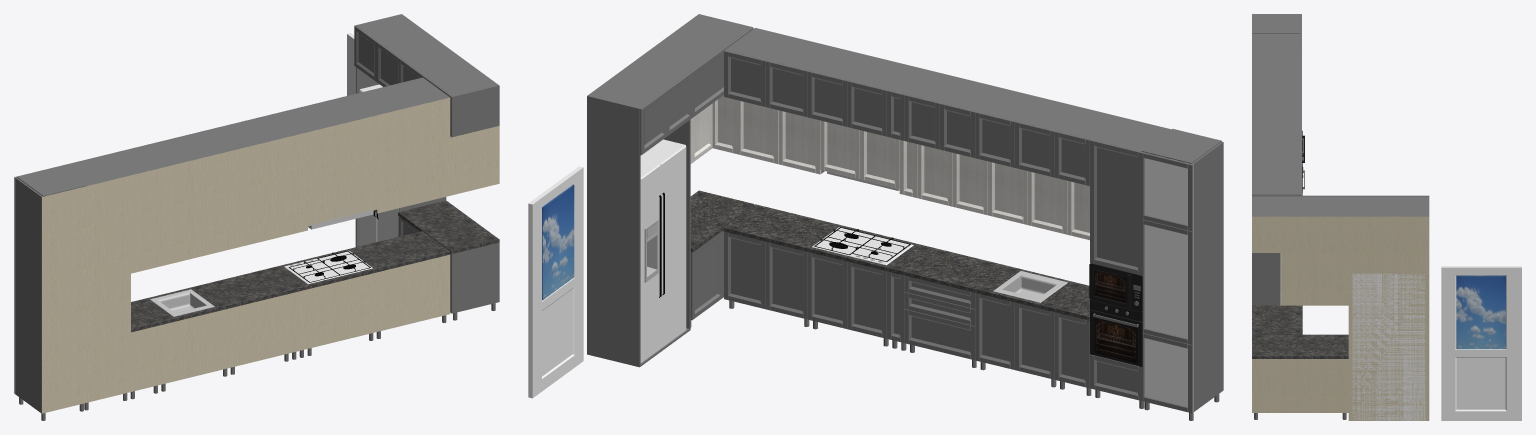
Rendered from kitchen.dae.
The picture shows the model from 3 angles, left to right: view 1: azimuth 30°, elevation 25°; view 2: azimuth 150°, elevation 25°; view 3: azimuth 270°, elevation 25°; orthographic projection. The views are drawn at different scales.
Visible parts, largest first — view 1: Module0, Module10, Module11, Module82, Module103, Module87, Module43, Module64, Module26, Module53, Module32, Module37 (+35 smaller); view 2: Module109, Module13, Module11, Module107, Module113, Module2, Module85, Module46, Module67, Module35, Module89, Module28 (+42 smaller); view 3: Module108, Module107, Module113, Module59, Module114, Module99, Module102, Module61, Module103, Module109, Module91, Module57 (+9 smaller).
Part boxes in pixels (left/top/right/bottom): Module0: left=85, top=175, right=130, bottom=402; Module10: left=41, top=186, right=87, bottom=413; Module11: left=15, top=166, right=86, bottom=413; Module82: left=377, top=254, right=450, bottom=331; Module103: left=400, top=46, right=499, bottom=136; Module87: left=377, top=138, right=450, bottom=213; Module43: left=308, top=272, right=377, bottom=348; Module64: left=162, top=308, right=230, bottom=384; Module26: left=162, top=191, right=230, bottom=265; Module53: left=308, top=155, right=377, bottom=226; Module32: left=231, top=293, right=292, bottom=367; Module37: left=231, top=176, right=292, bottom=249; Module109: left=587, top=59, right=690, bottom=367; Module13: left=1144, top=158, right=1193, bottom=412; Module11: left=1140, top=128, right=1223, bottom=412; Module107: left=640, top=139, right=686, bottom=362; Module113: left=528, top=166, right=583, bottom=398; Module2: left=1090, top=139, right=1143, bottom=400; Module85: left=724, top=231, right=807, bottom=319; Module46: left=807, top=252, right=886, bottom=338; Module67: left=975, top=293, right=1054, bottom=379; Module35: left=904, top=275, right=975, bottom=360; Module89: left=736, top=100, right=821, bottom=174; Module28: left=988, top=161, right=1067, bottom=234; Module108: left=1348, top=216, right=1429, bottom=420; Module107: left=1352, top=273, right=1425, bottom=420; Module113: left=1441, top=266, right=1521, bottom=420; Module59: left=1252, top=359, right=1348, bottom=412; Module114: left=1456, top=275, right=1505, bottom=349; Module99: left=1280, top=253, right=1348, bottom=305; Module102: left=1252, top=216, right=1348, bottom=252; Module61: left=1252, top=334, right=1348, bottom=358; Module103: left=1252, top=196, right=1348, bottom=216; Module109: left=1348, top=196, right=1429, bottom=216; Module91: left=1252, top=162, right=1300, bottom=195; Module57: left=1252, top=131, right=1300, bottom=162.
Size of the model in its own units: 5950 by 2810 by 3351.
